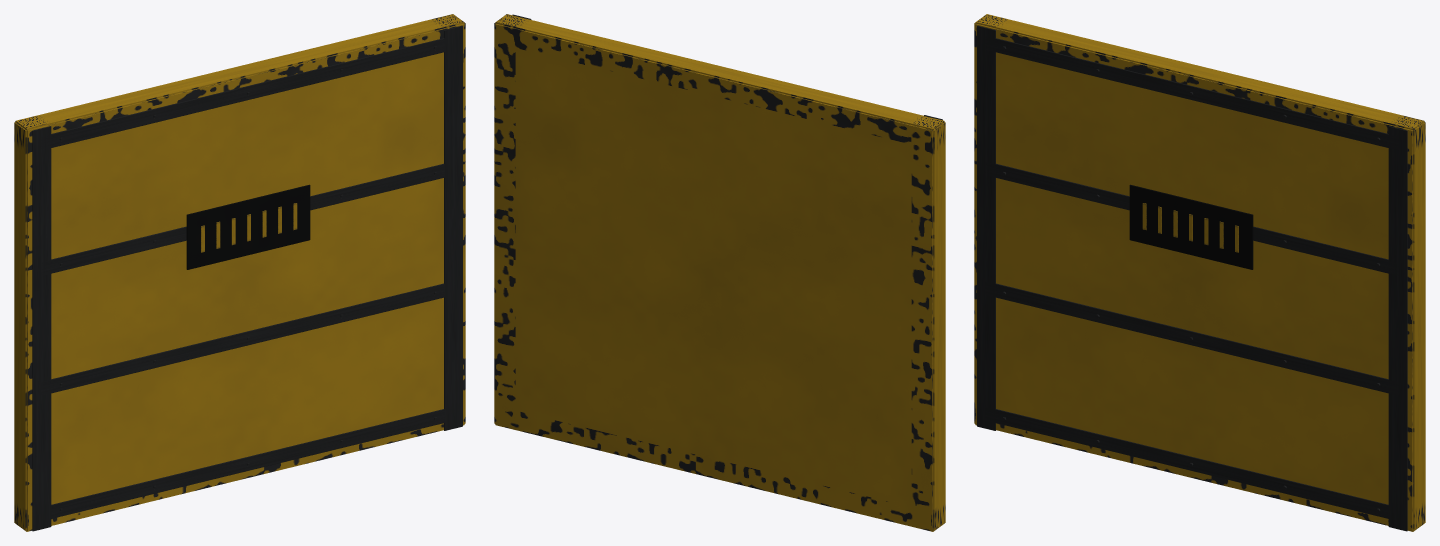
File: HarborLiftGate.fbx
3 views of the same model, side by side, from view 1: azimuth 30°, elevation 25°; view 2: azimuth 150°, elevation 25°; view 3: azimuth 330°, elevation 25° (orthographic).
Parts seen in each view (by area): view 1: HarborLiftGate.001; view 2: HarborLiftGate.001; view 3: HarborLiftGate.001.
Boxes of the visible parts, bbox=[...] form: HarborLiftGate.001: bbox=[14, 14, 465, 531]; HarborLiftGate.001: bbox=[494, 14, 945, 531]; HarborLiftGate.001: bbox=[974, 14, 1425, 531].
Bounding box in the file's own units: 4 × 3.5 × 0.2455.
